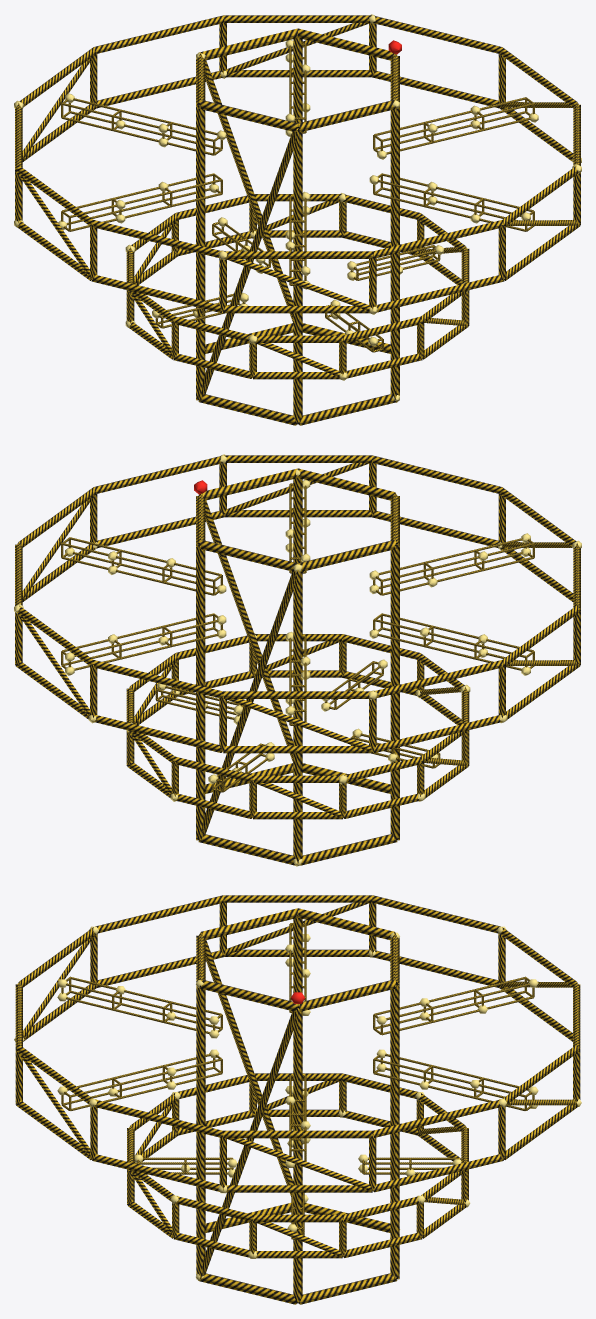
File: research_station_build1.obj
3 views of the same model, one above another, from view 1: azimuth 30°, elevation 25°; view 2: azimuth 150°, elevation 25°; view 3: azimuth 270°, elevation 25° (orthographic).
Visible parts, largest first — view 1: girder, post, brace, work_light; view 2: girder, post, brace, work_light; view 3: girder, post, brace, work_light.
Part boxes in pixels (<box>): girder: <box>15,15,580,425</box>; post: <box>15,20,580,423</box>; brace: <box>17,23,578,398</box>; work_light: <box>14,14,581,402</box>; girder: <box>15,455,580,865</box>; post: <box>15,460,580,863</box>; brace: <box>18,463,578,838</box>; work_light: <box>14,454,581,866</box>; girder: <box>15,895,580,1304</box>; post: <box>15,900,580,1302</box>; brace: <box>18,902,577,1277</box>; work_light: <box>14,926,581,1280</box>.
Bounding box in the file's own units: 147 × 89.61 × 148.
Materials: 3 (1 with a texture image).
